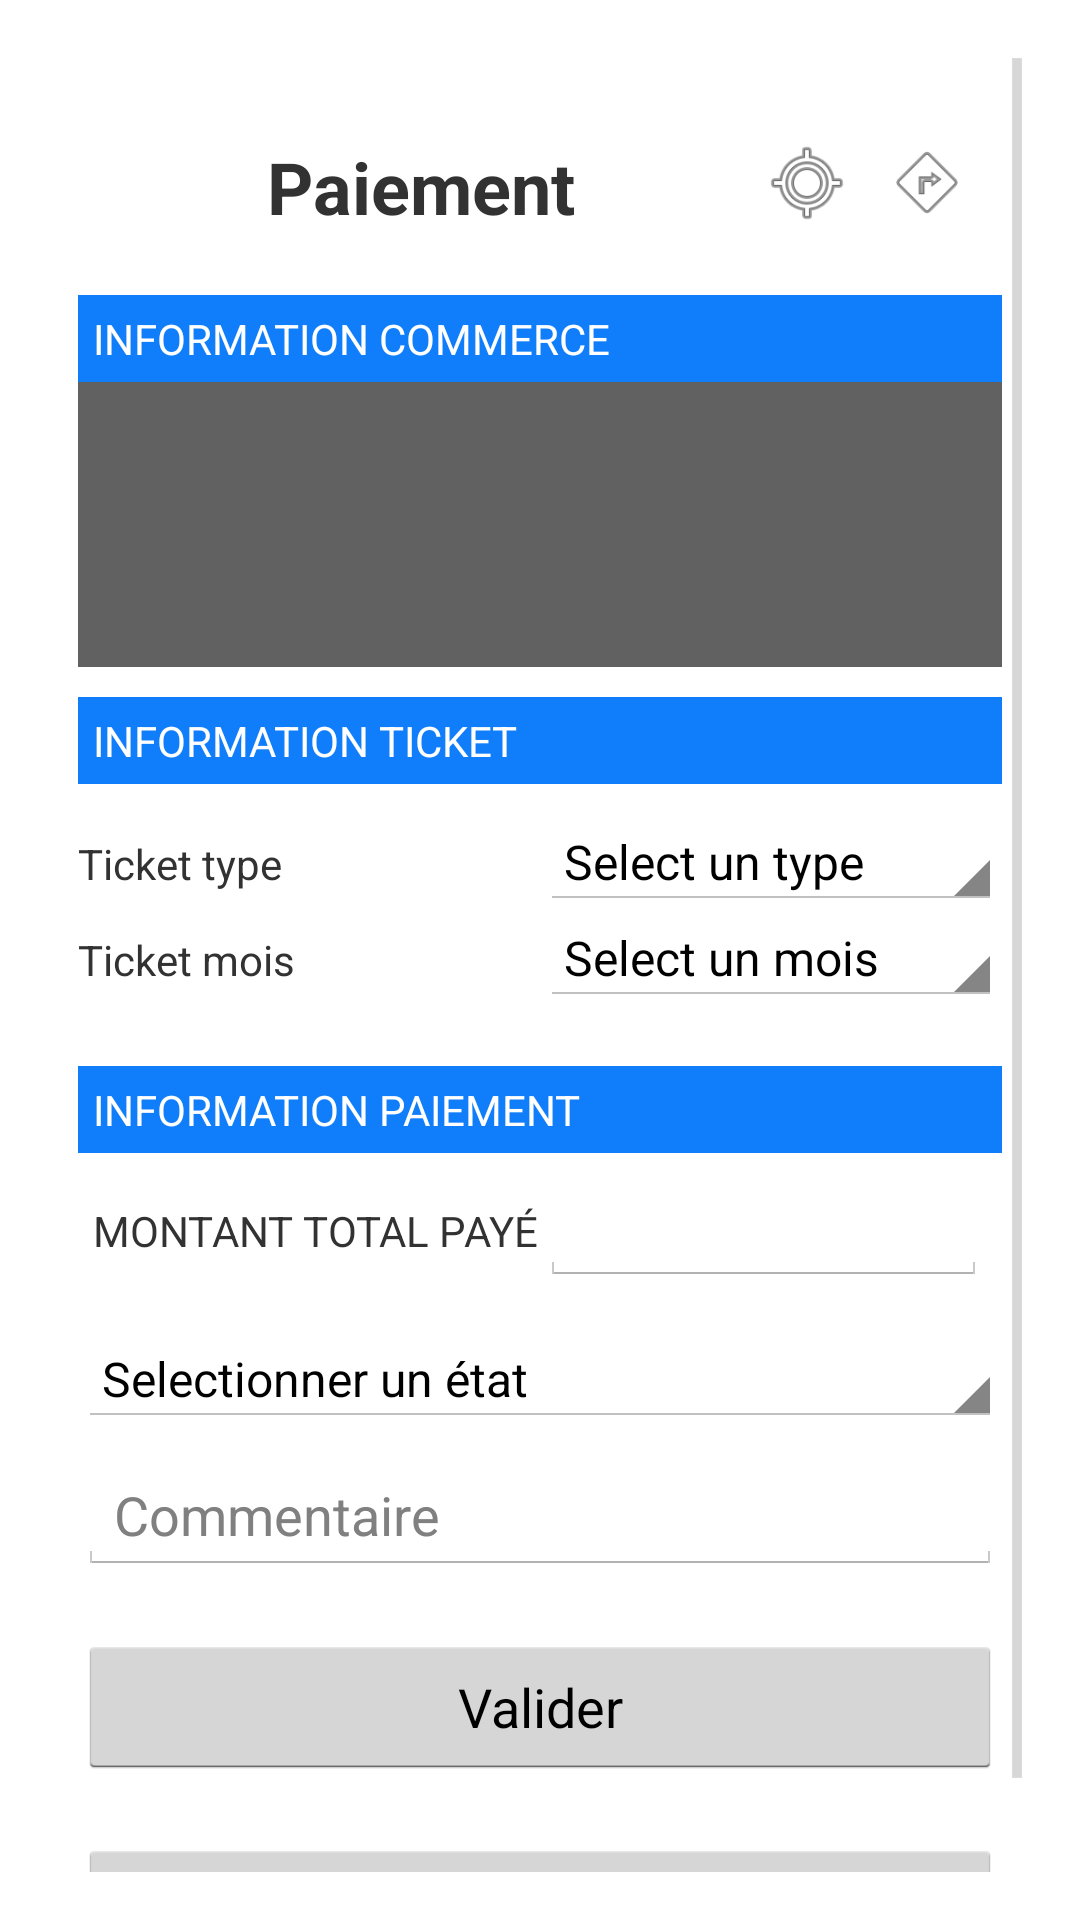

Where icons sit on this 1080px x 1920px app screen, as (x1, y1, x2, y2):
directions: (896, 152, 958, 213)
mylocation: (771, 147, 843, 219)
